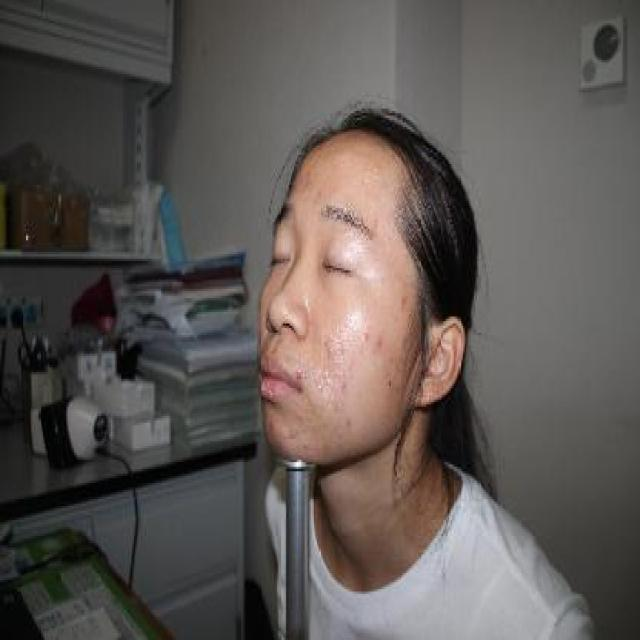dark spot: (396, 289, 416, 314), (357, 326, 375, 346), (376, 332, 390, 353), (337, 377, 352, 395), (346, 414, 354, 432)
papules: (295, 369, 303, 384)
